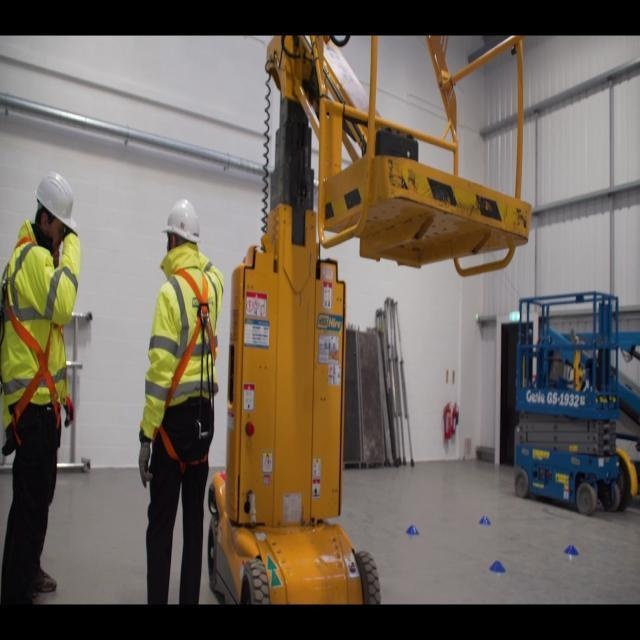Arnes_seguridad: (156, 266, 218, 471), (3, 240, 64, 445)
